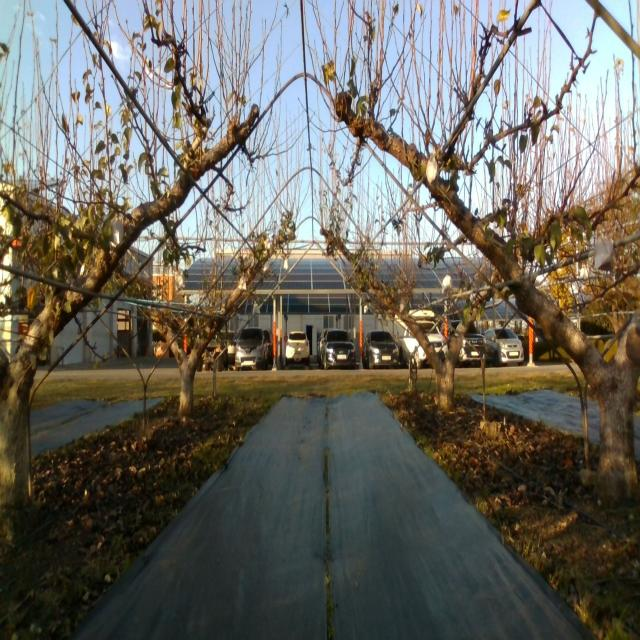pearbags: (592, 237, 615, 273), (426, 155, 440, 188), (110, 218, 124, 245), (441, 276, 453, 295)
